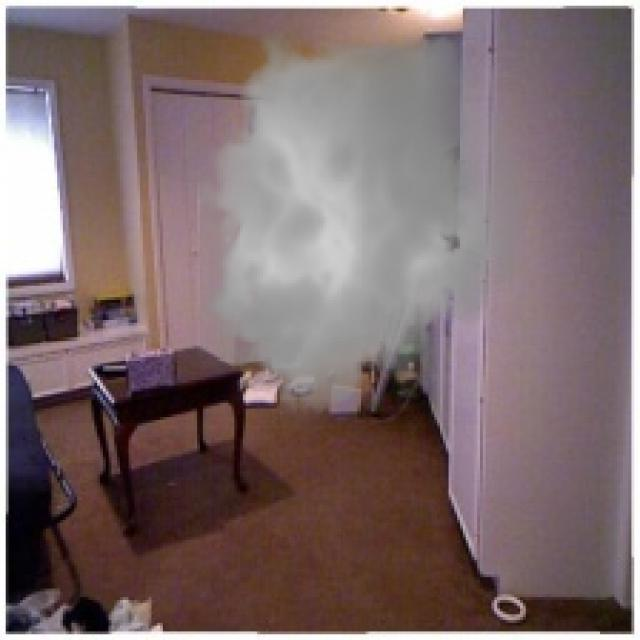Smoke: (182, 14, 538, 429)
